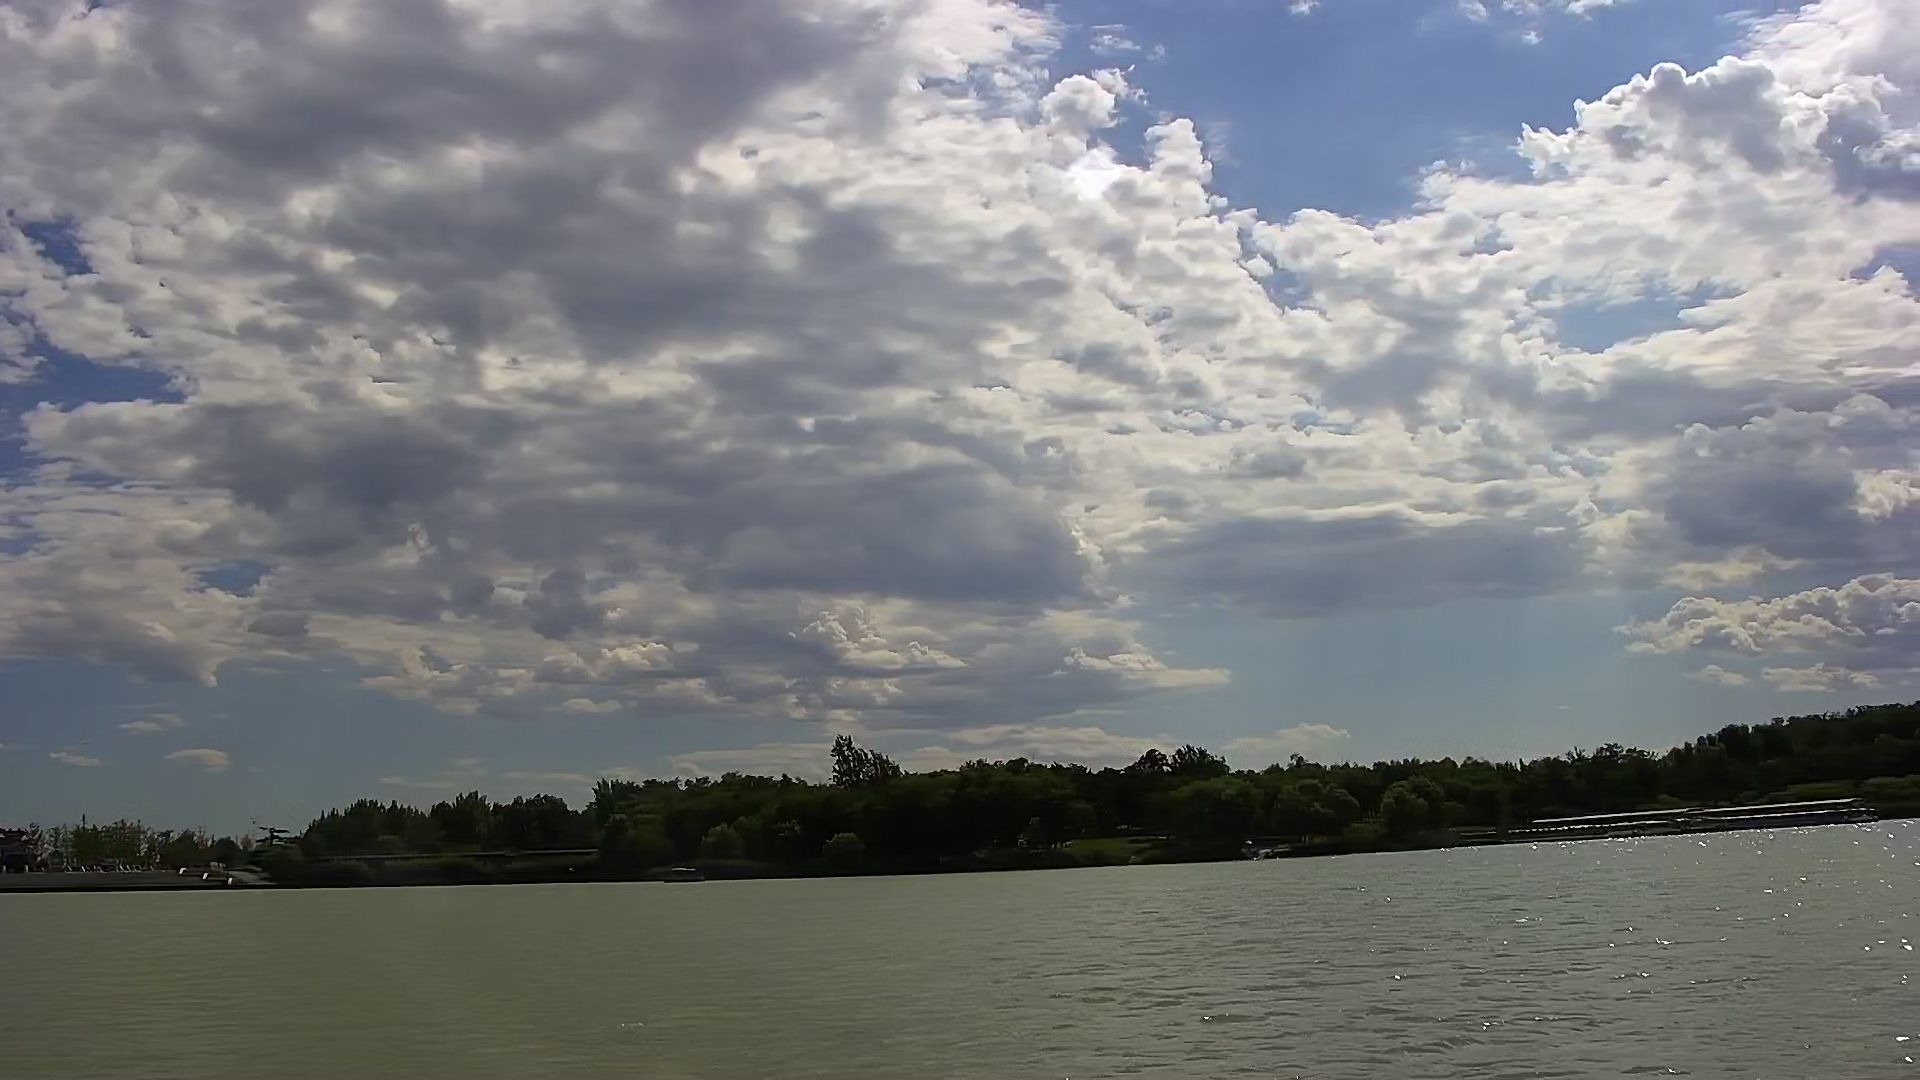harbor: (1515, 796, 1878, 841)
